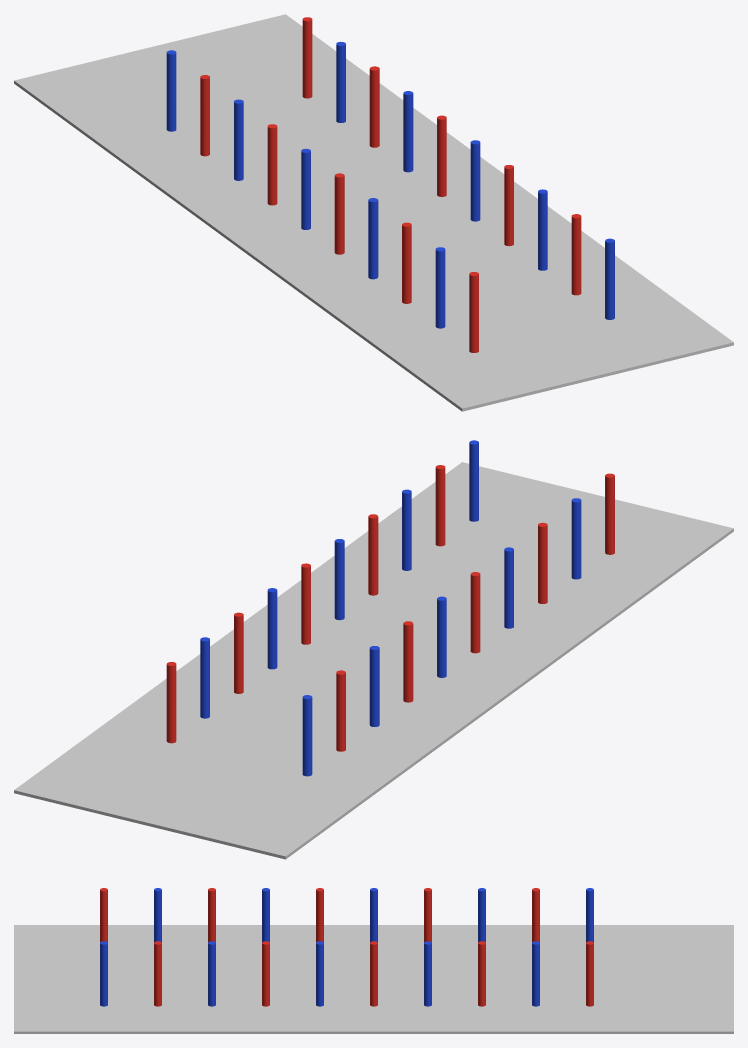
Rendered from exponential.gltf.
3 views of the same model, one above another, from view 1: azimuth 30°, elevation 25°; view 2: azimuth 150°, elevation 25°; view 3: azimuth 270°, elevation 25° (orthographic). The views are drawn at different scales.
Parts seen in each view (by area): view 1: Exhibit; view 2: Exhibit; view 3: Exhibit.
Part boxes in pixels (box(x1,y1,x2,y2)): Exhibit: box(14, 14, 733, 411); Exhibit: box(14, 440, 733, 859); Exhibit: box(14, 888, 733, 1033).
Size of the model in its own units: 14 by 3.95 by 40.
